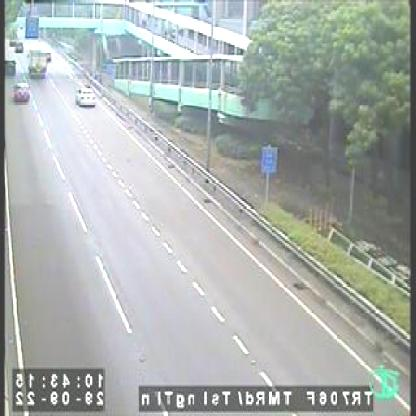Car: (74, 82, 96, 108), (12, 76, 34, 102), (4, 52, 16, 73)
Truck: (29, 49, 48, 76)
